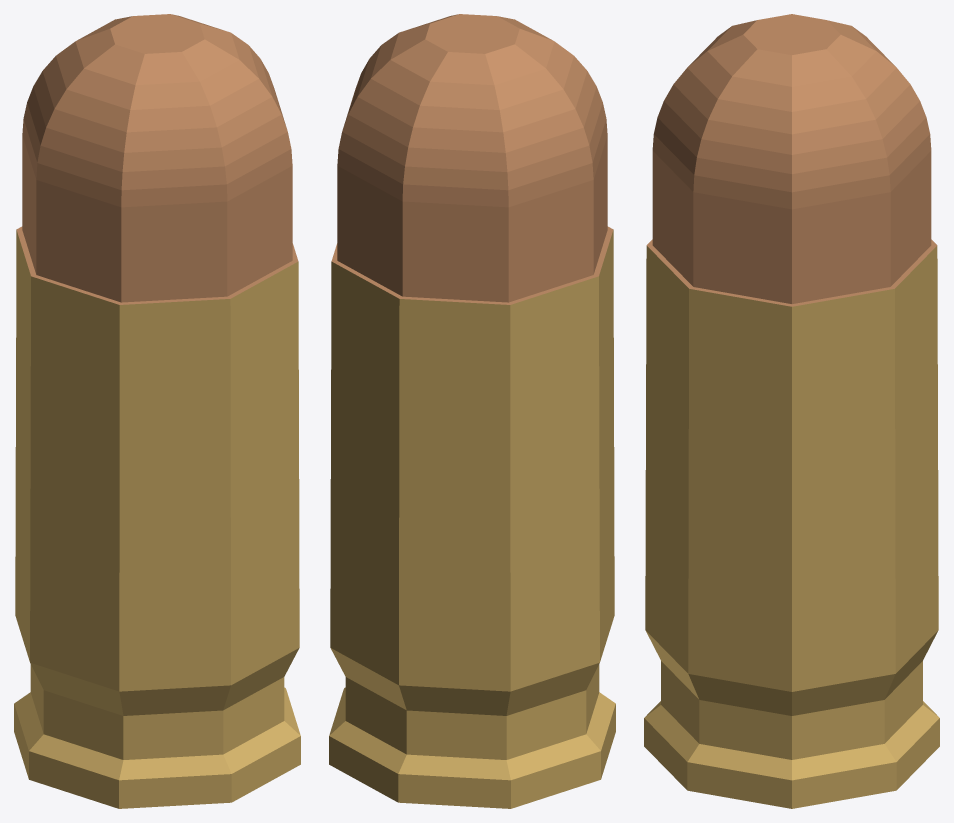
Rendered from round_45ACP.glb.
The picture shows the model from 3 angles, left to right: view 1: azimuth 30°, elevation 25°; view 2: azimuth 150°, elevation 25°; view 3: azimuth 270°, elevation 25°; orthographic projection.
Visible parts, largest first — view 1: round_45ACP; view 2: round_45ACP; view 3: round_45ACP.
Part boxes in pixels (left/top/right/bottom): round_45ACP: left=14, top=14, right=300, bottom=808; round_45ACP: left=329, top=14, right=615, bottom=808; round_45ACP: left=644, top=14, right=939, bottom=808.
Bounding box in the file's own units: 0.0122 × 0.0324 × 0.0122.
